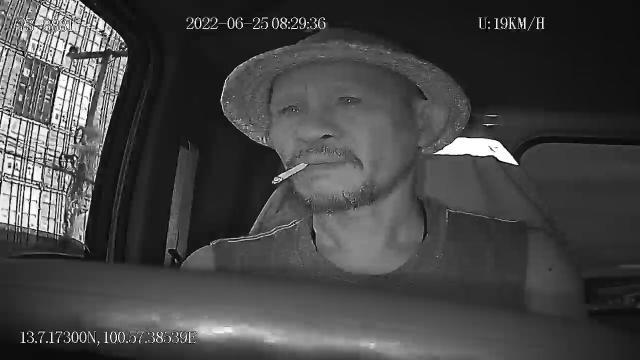SafeDriving: (330, 87, 370, 111), (273, 96, 311, 119)
Smoking: (272, 160, 308, 182)
